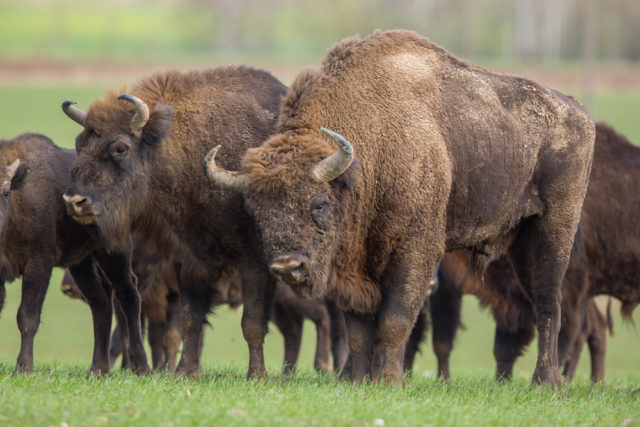zubr: (197, 5, 606, 415), (50, 27, 275, 368)
